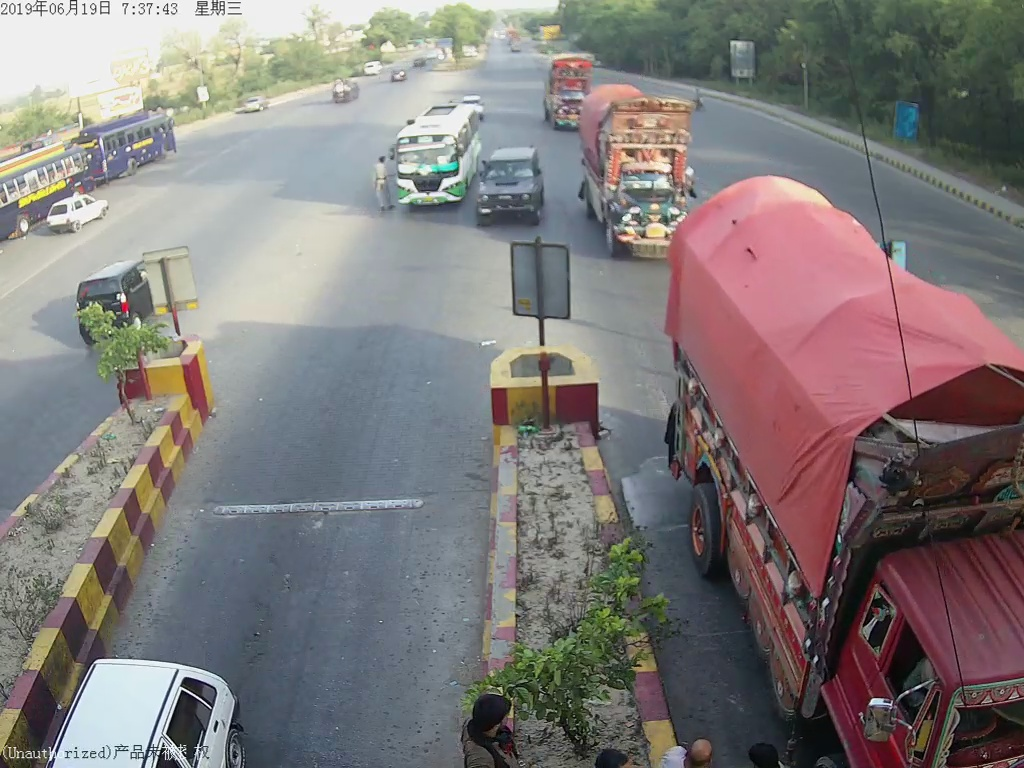Cat-1: (476, 151, 547, 227)
Cat-3: (389, 96, 482, 210)
Cat-4: (690, 205, 1024, 762), (578, 88, 703, 260), (538, 51, 596, 132)
